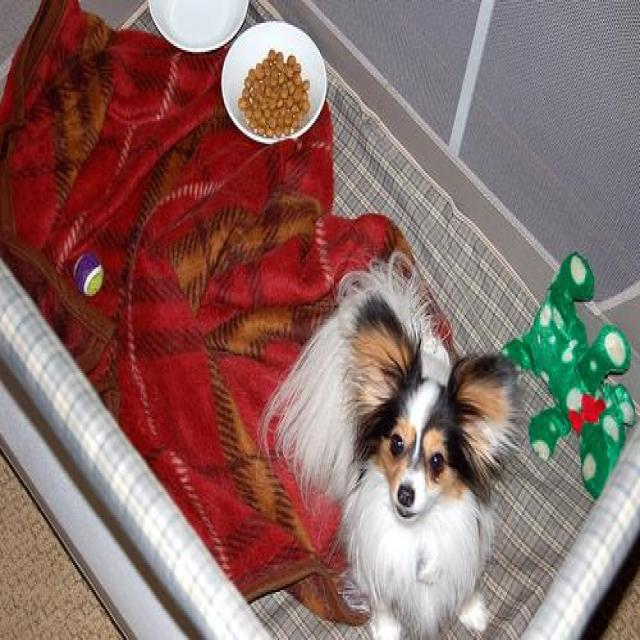papillon: (253, 248, 528, 638)
